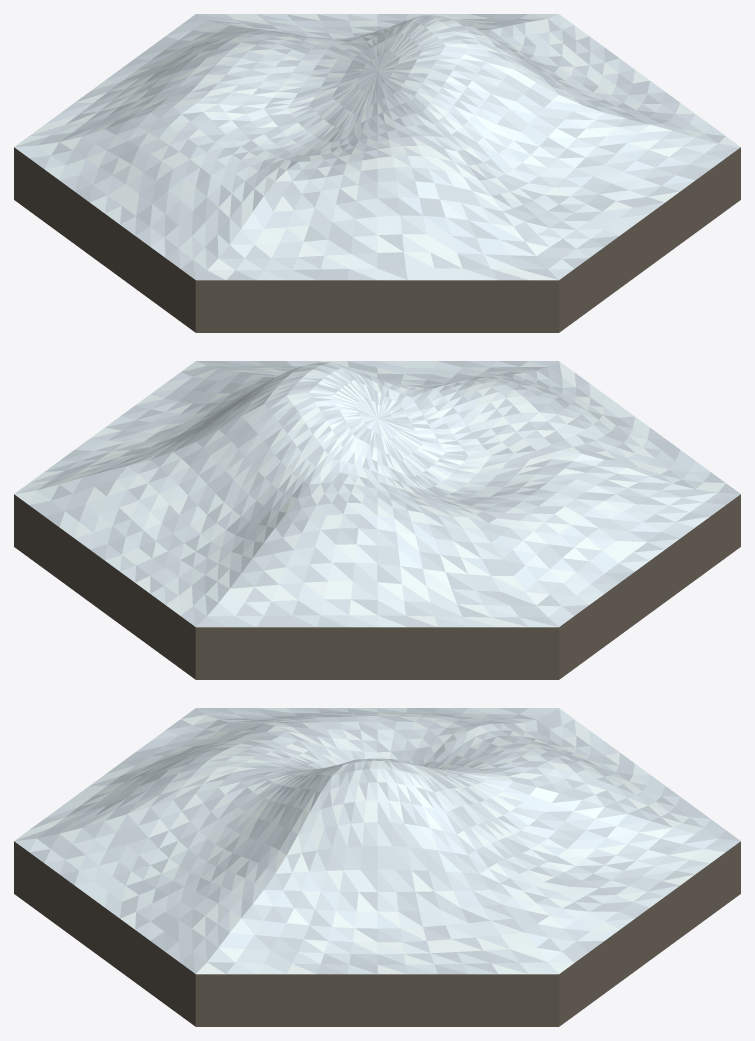
The model's file is TERRAIN_SNOW_HILLS_v00.fbx.
3 renders of one model, top to bottom at view 1: azimuth 30°, elevation 25°; view 2: azimuth 150°, elevation 25°; view 3: azimuth 270°, elevation 25°, orthographic.
Parts seen in each view (by area): view 1: TERRAIN_SNOW_HILLS_v00; view 2: TERRAIN_SNOW_HILLS_v00; view 3: TERRAIN_SNOW_HILLS_v00.
Boxes of the visible parts, <box> form: TERRAIN_SNOW_HILLS_v00: <box>14,14,740,332</box>; TERRAIN_SNOW_HILLS_v00: <box>14,361,740,679</box>; TERRAIN_SNOW_HILLS_v00: <box>14,708,740,1026</box>.
Bounding box in the file's own units: 173 × 48.04 × 200.
